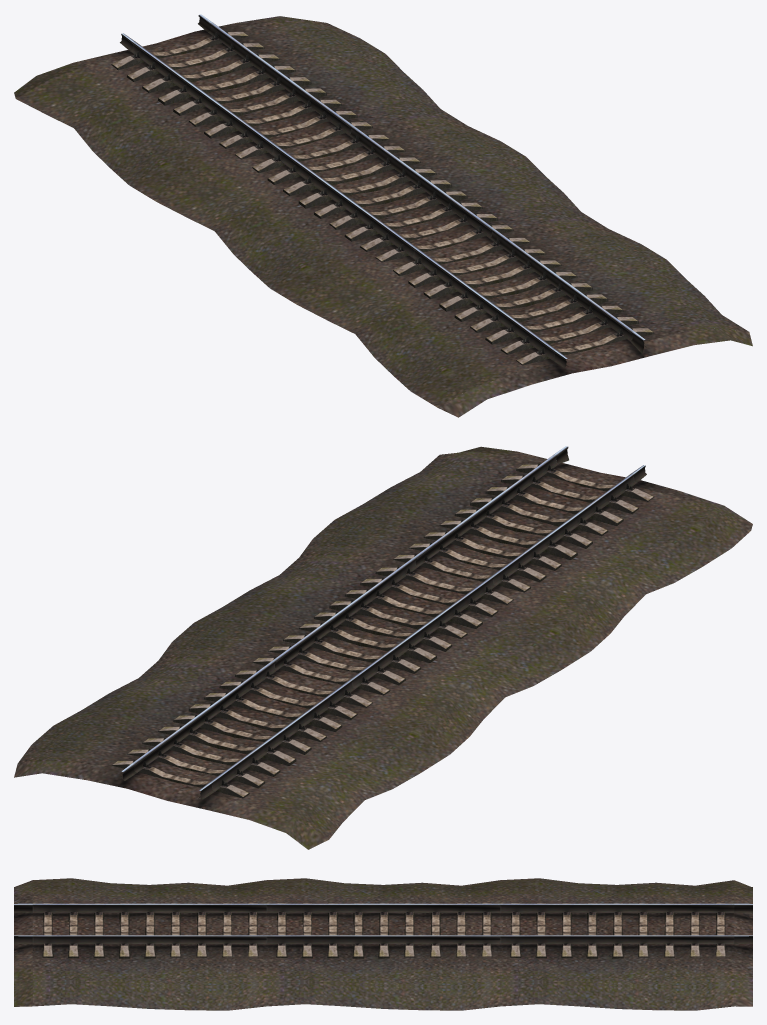
File: 1track_15_TSM.gltf
The picture shows the model from 3 angles, top to bottom: view 1: azimuth 30°, elevation 25°; view 2: azimuth 150°, elevation 25°; view 3: azimuth 270°, elevation 25°; orthographic projection. The views are drawn at different scales.
Size of the model in its own units: 6.7 by 0.6438 by 15.8.
Materials: 1 (1 with a texture image).
